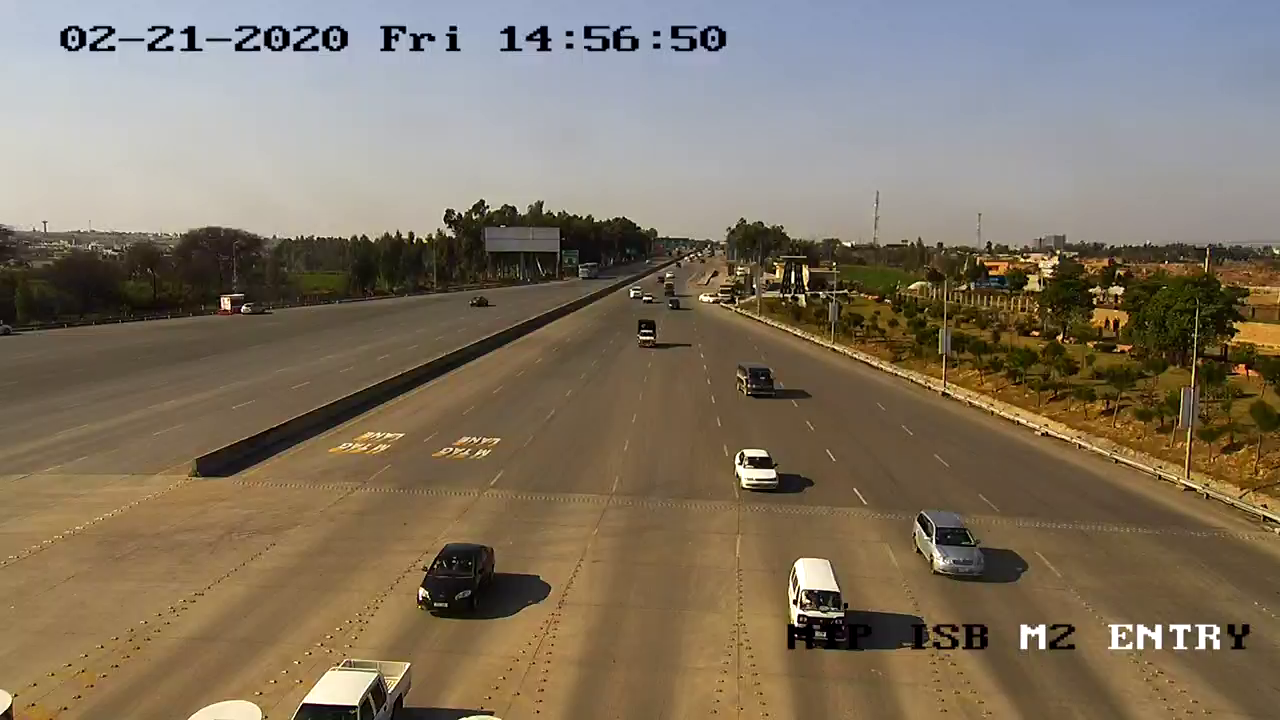f1: (894, 495, 1012, 589), (405, 532, 506, 628), (774, 548, 862, 657), (723, 437, 788, 504), (723, 351, 786, 409)
